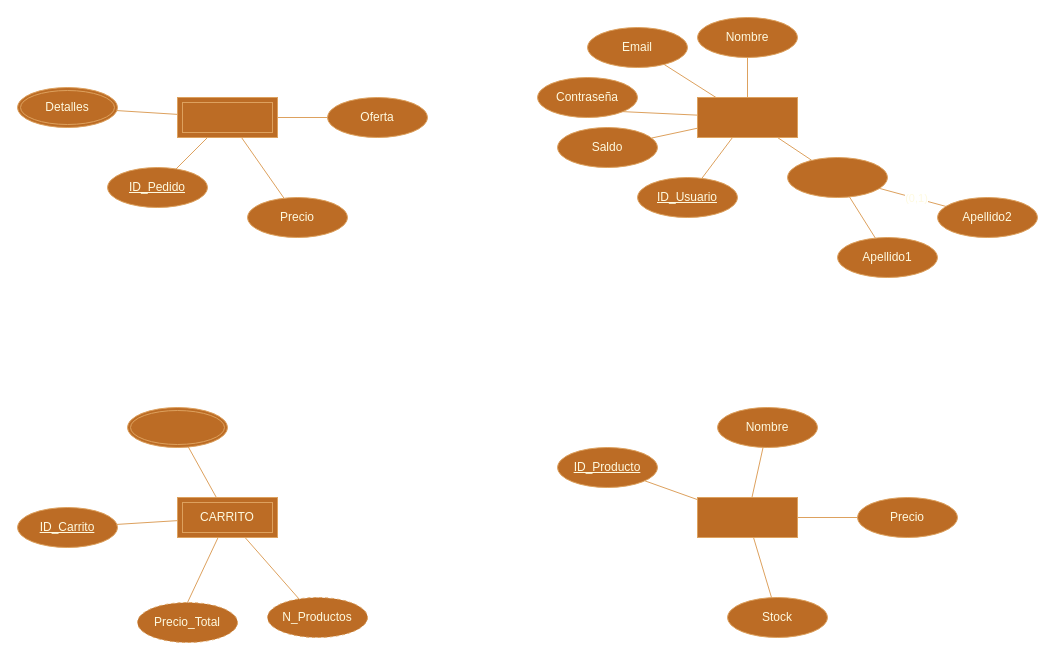
Image size: 1055x660. Some labels were removed from this diagram. Here are the shapes that lost their labels. From the top down, the centre of each, then its label:
(227,117): PEDIDO
(747,117): USUARIO
(837,177): Apellidos
(177,427): Productos
(747,517): PRODUCTO
